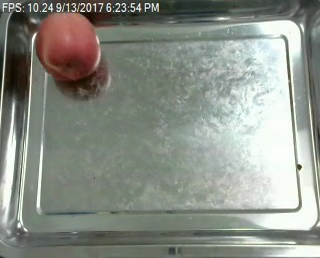Apple: (33, 6, 102, 86)
